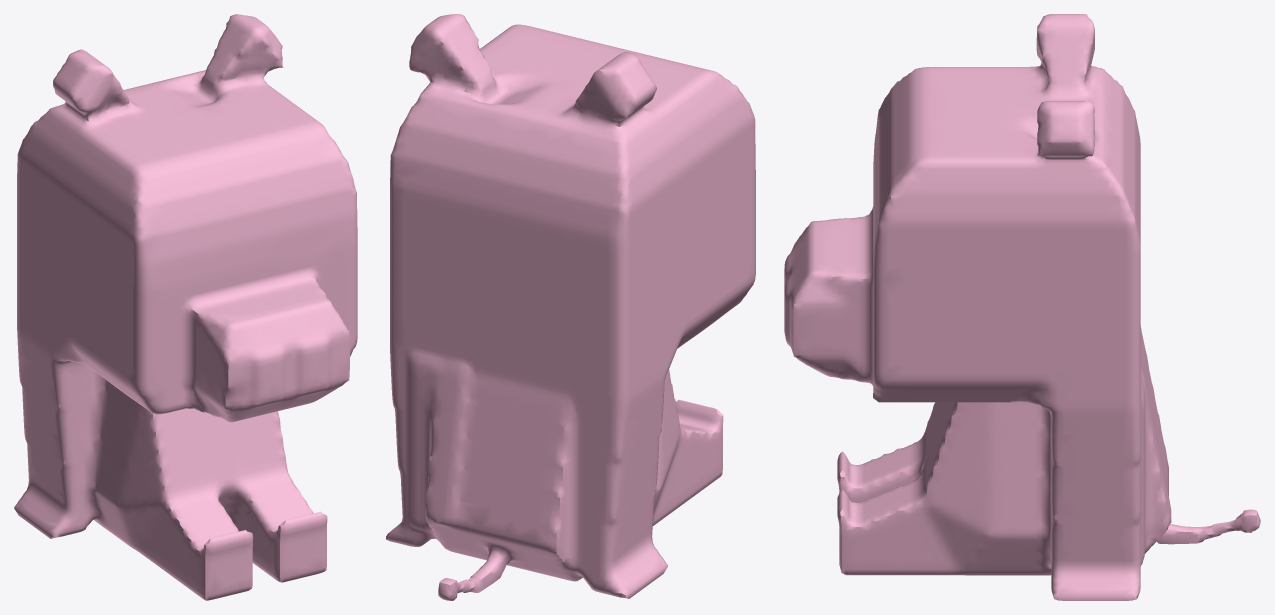
3 renders of one model, left to right at view 1: azimuth 30°, elevation 25°; view 2: azimuth 150°, elevation 25°; view 3: azimuth 270°, elevation 25°, orthographic. The views are drawn at different scales.
Parts seen in each view (by area): view 1: pCube1_lambert24_0; view 2: pCube1_lambert24_0; view 3: pCube1_lambert24_0.
Boxes of the visible parts, x1=… form: pCube1_lambert24_0: x1=14, y1=14, x2=357, y2=600; pCube1_lambert24_0: x1=386, y1=14, x2=755, y2=600; pCube1_lambert24_0: x1=784, y1=14, x2=1260, y2=600.
Bounding box in the file's own units: 0.5057 × 1 × 0.8753.
